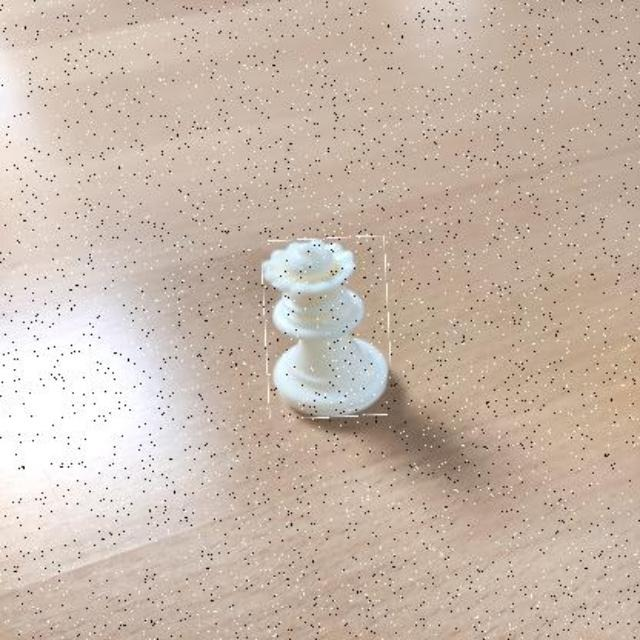white-queen: (264, 237, 391, 418)
